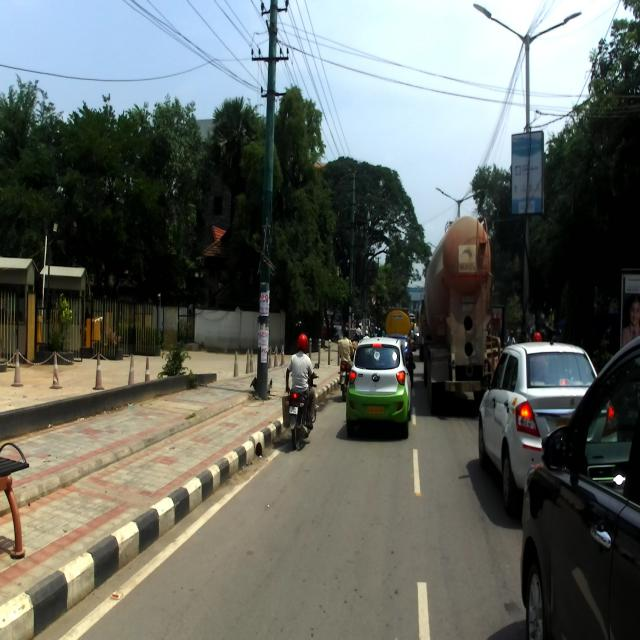Car: (345, 336, 415, 439)
Car_Maruti-Suzuki: (478, 342, 598, 514)
Car_Toyota: (520, 332, 640, 640)
motorcycle_Honda: (288, 362, 319, 447)
